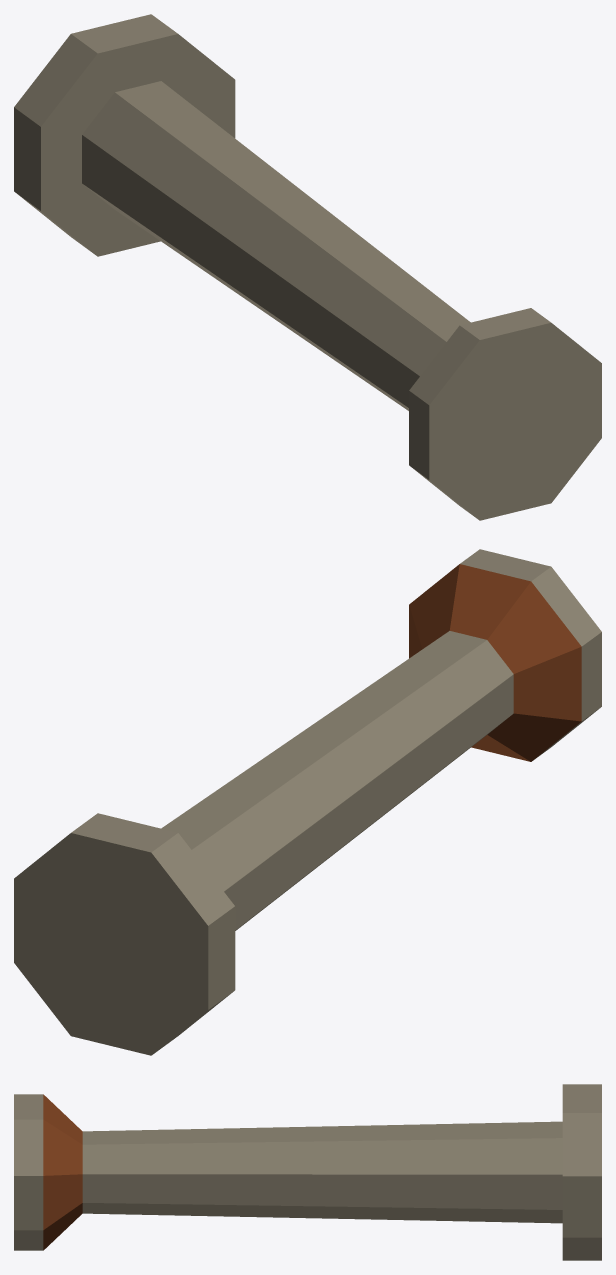
File: SM_AEON_RibColumn_6m.obj
3 views of the same model, one above another, from view 1: azimuth 30°, elevation 25°; view 2: azimuth 150°, elevation 25°; view 3: azimuth 270°, elevation 25° (orthographic). The views are drawn at different scales.
Visible parts, largest first — view 1: SM_AEON_RibColumn_6m; view 2: SM_AEON_RibColumn_6m; view 3: SM_AEON_RibColumn_6m.
Part boxes in pixels (box(x1,y1,x2,y2)): SM_AEON_RibColumn_6m: box(14, 14, 601, 520); SM_AEON_RibColumn_6m: box(14, 549, 601, 1055); SM_AEON_RibColumn_6m: box(14, 1084, 601, 1260).
Size of the model in its own units: 166 by 166 by 600.
